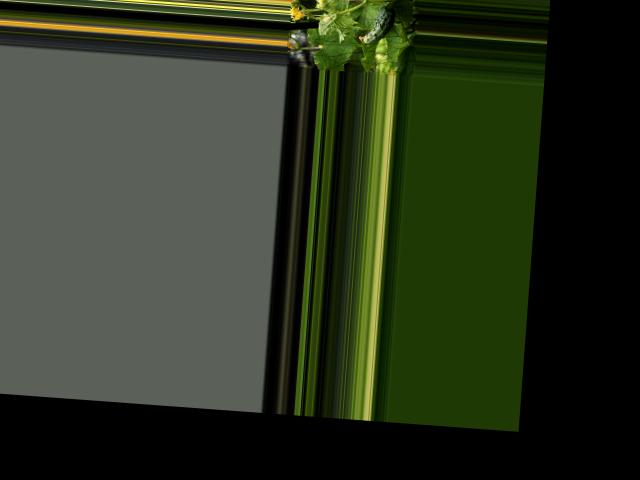cucumber: (357, 2, 395, 46)
